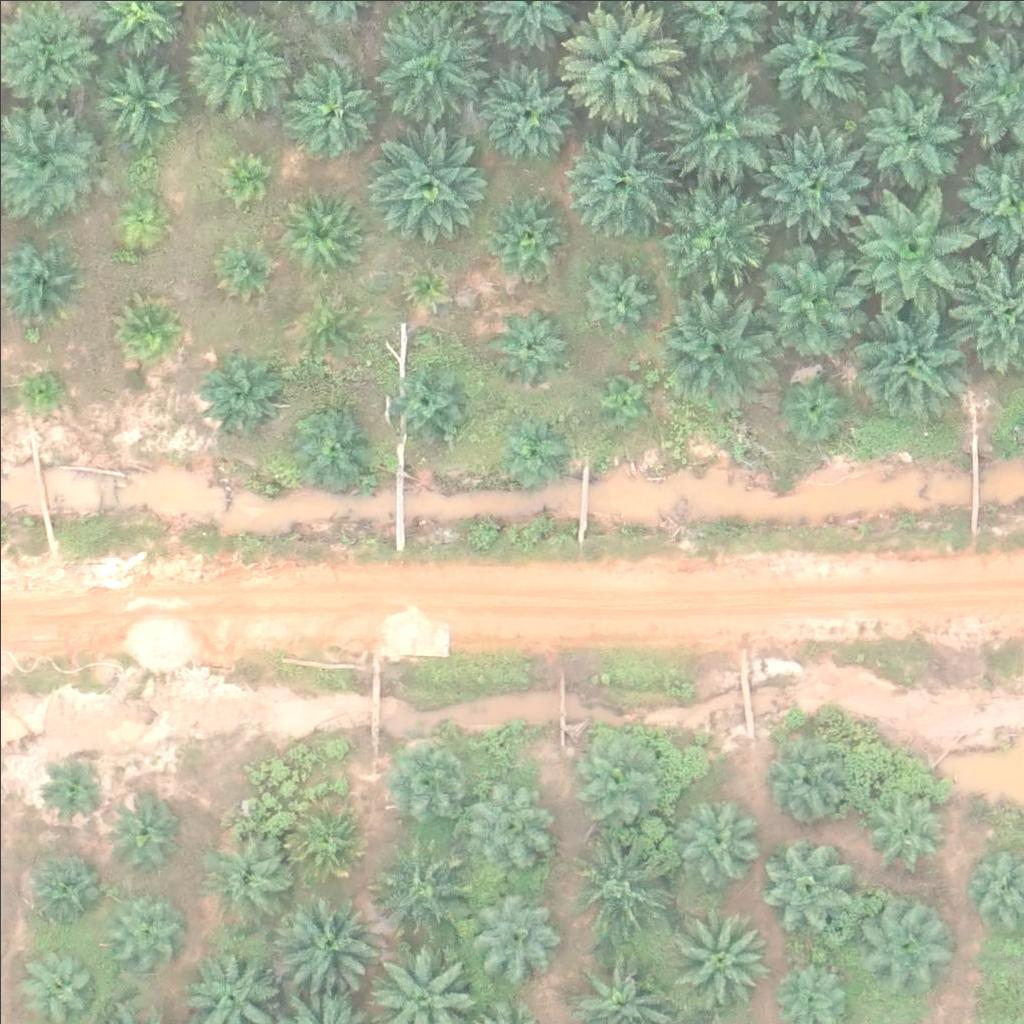Kelapa_Sawit: (369, 130, 482, 244), (568, 5, 681, 119), (757, 125, 870, 239), (655, 171, 768, 284), (663, 288, 776, 401), (757, 243, 870, 356), (268, 888, 381, 1001), (665, 65, 777, 179), (854, 193, 966, 307), (560, 123, 672, 236), (755, 4, 867, 117), (851, 303, 963, 416), (569, 819, 681, 932), (474, 62, 574, 163), (374, 838, 474, 939), (668, 905, 768, 1006), (857, 888, 957, 989), (193, 9, 293, 109), (282, 61, 382, 161), (859, 91, 959, 191), (563, 719, 663, 819), (759, 839, 859, 939), (96, 55, 184, 143), (388, 359, 476, 447), (482, 192, 570, 280), (286, 793, 374, 881), (474, 887, 562, 975), (760, 743, 848, 831), (464, 779, 551, 868), (288, 403, 375, 491), (279, 188, 366, 276), (202, 826, 289, 914), (386, 734, 473, 822), (669, 790, 756, 878), (861, 789, 948, 877), (204, 347, 279, 423), (495, 305, 570, 381), (25, 941, 100, 1017), (23, 853, 98, 929), (105, 887, 180, 962), (107, 787, 182, 862), (505, 421, 568, 484), (783, 373, 846, 436), (116, 300, 179, 363), (46, 758, 109, 821), (585, 266, 647, 329), (294, 294, 356, 357), (119, 193, 169, 244), (217, 151, 267, 201), (222, 243, 272, 293), (595, 374, 645, 424), (26, 371, 63, 409), (411, 271, 448, 308)
